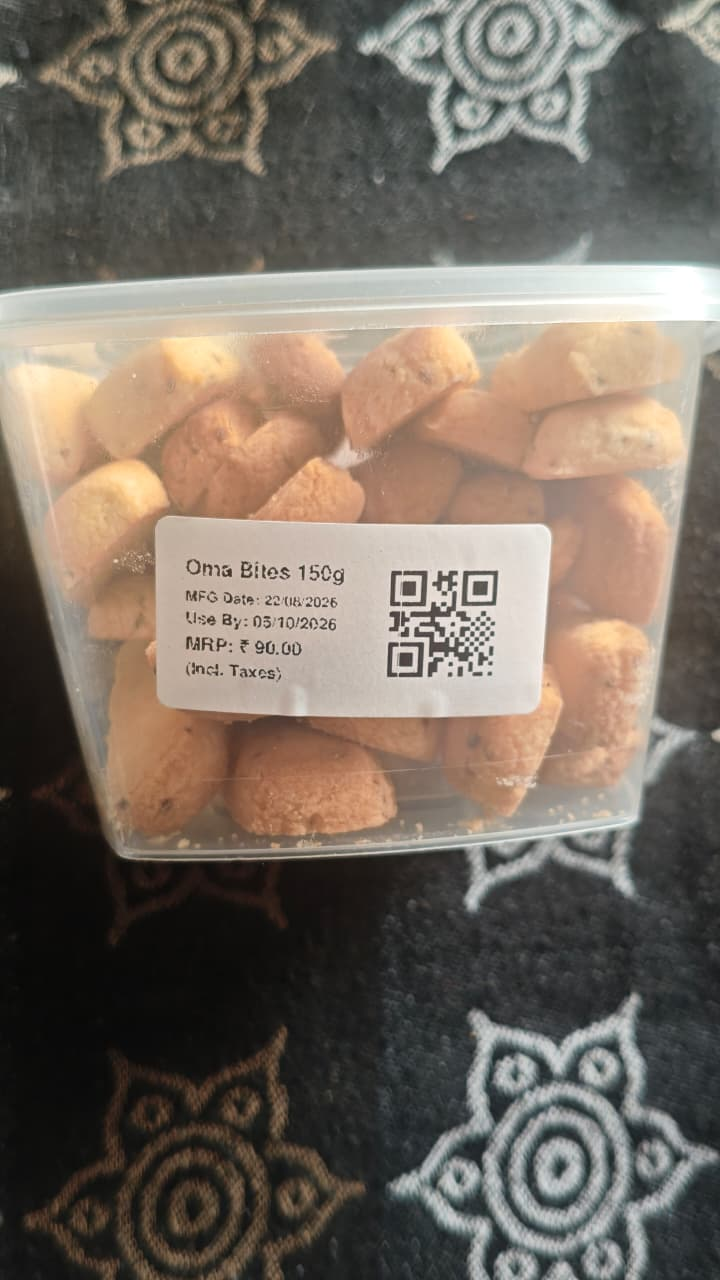EXP_Date: (185, 612, 343, 634)
MFG_Date: (188, 587, 342, 609)
MRP: (183, 632, 304, 657)
